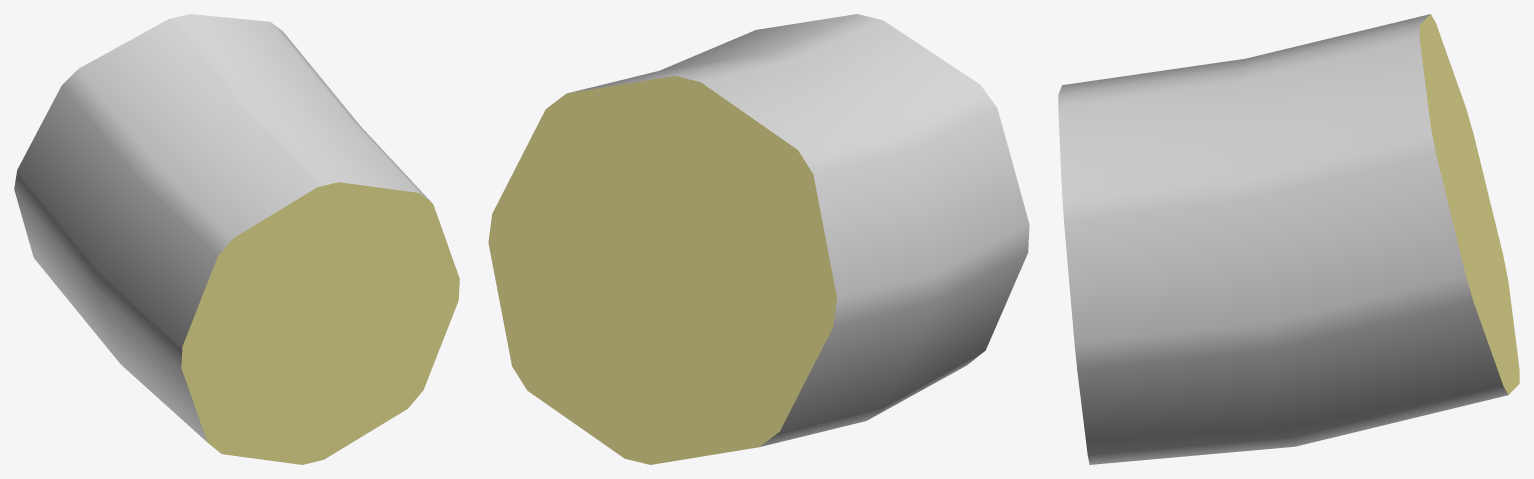
The model's file is banana-slice01.fbx.
3 renders of one model, left to right at view 1: azimuth 30°, elevation 25°; view 2: azimuth 150°, elevation 25°; view 3: azimuth 270°, elevation 25°, orthographic. The views are drawn at different scales.
Visible parts, largest first — view 1: Banana-slice01.001; view 2: Banana-slice01.001; view 3: Banana-slice01.001.
Boxes of the visible parts, bbox=[...] form: Banana-slice01.001: bbox=[14, 14, 459, 464]; Banana-slice01.001: bbox=[488, 14, 1029, 464]; Banana-slice01.001: bbox=[1058, 14, 1519, 464].
Bounding box in the file's own units: 189 × 219 × 219.
